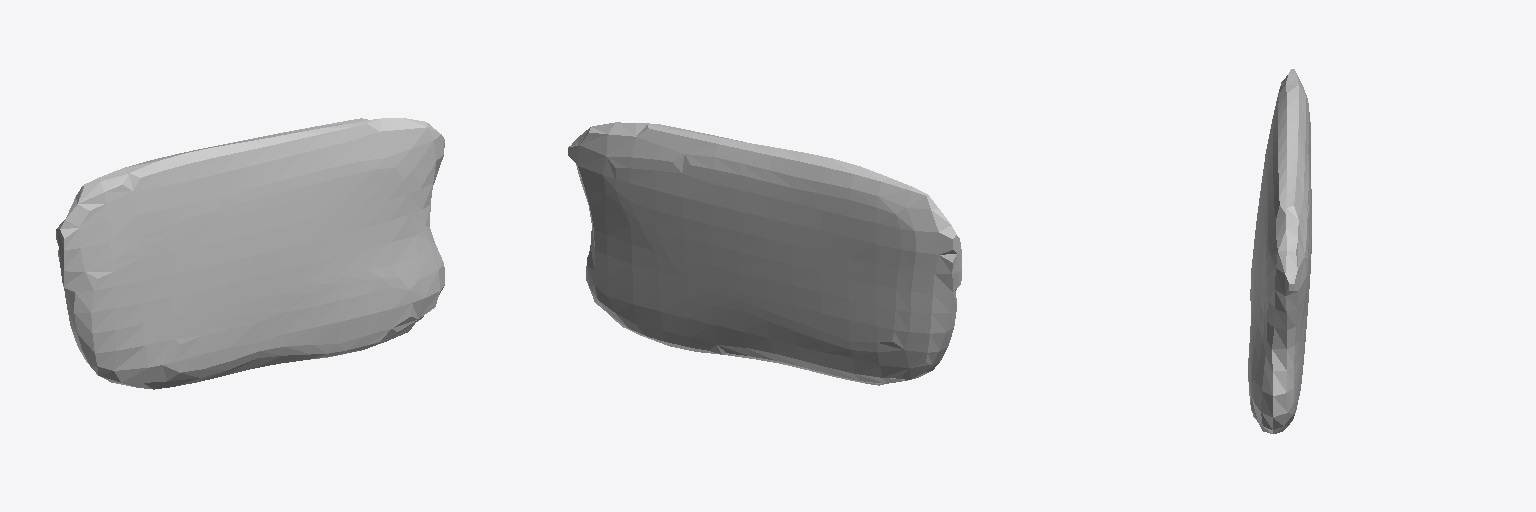
File: modeloPiedraPantalla2.obj
3 views of the same model, side by side, from view 1: azimuth 30°, elevation 25°; view 2: azimuth 150°, elevation 25°; view 3: azimuth 270°, elevation 25° (orthographic).
Bounding box in the file's own units: 6.51 × 3.76 × 0.9376.